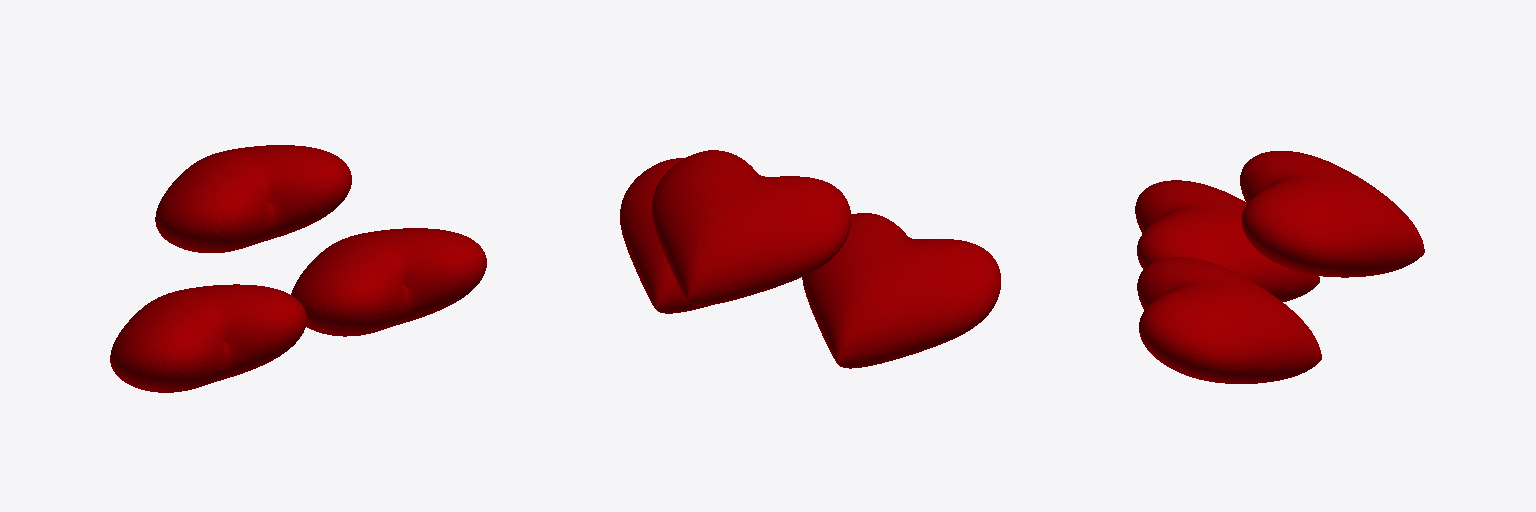
The model's file is heart3.obj.
3 views of the same model, side by side, from view 1: azimuth 30°, elevation 25°; view 2: azimuth 150°, elevation 25°; view 3: azimuth 270°, elevation 25° (orthographic).
Visible parts, largest first — view 1: Object.1, Object.2, Object.3; view 2: Object.2, Object.1, Object.3; view 3: Object.3, Object.2, Object.1.
Part boxes in pixels (bbox=[...]): Object.1: bbox=[110, 284, 306, 392]; Object.2: bbox=[155, 145, 351, 252]; Object.3: bbox=[291, 228, 486, 336]; Object.2: bbox=[652, 150, 850, 305]; Object.1: bbox=[802, 213, 1000, 368]; Object.3: bbox=[620, 158, 714, 313]; Object.3: bbox=[1137, 257, 1321, 383]; Object.2: bbox=[1240, 151, 1424, 277]; Object.1: bbox=[1135, 180, 1319, 301].
Size of the model in its own units: 114 by 53.8 by 79.28.